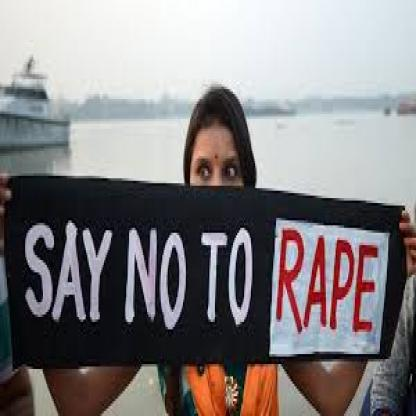BANNER: (1, 176, 406, 416)
